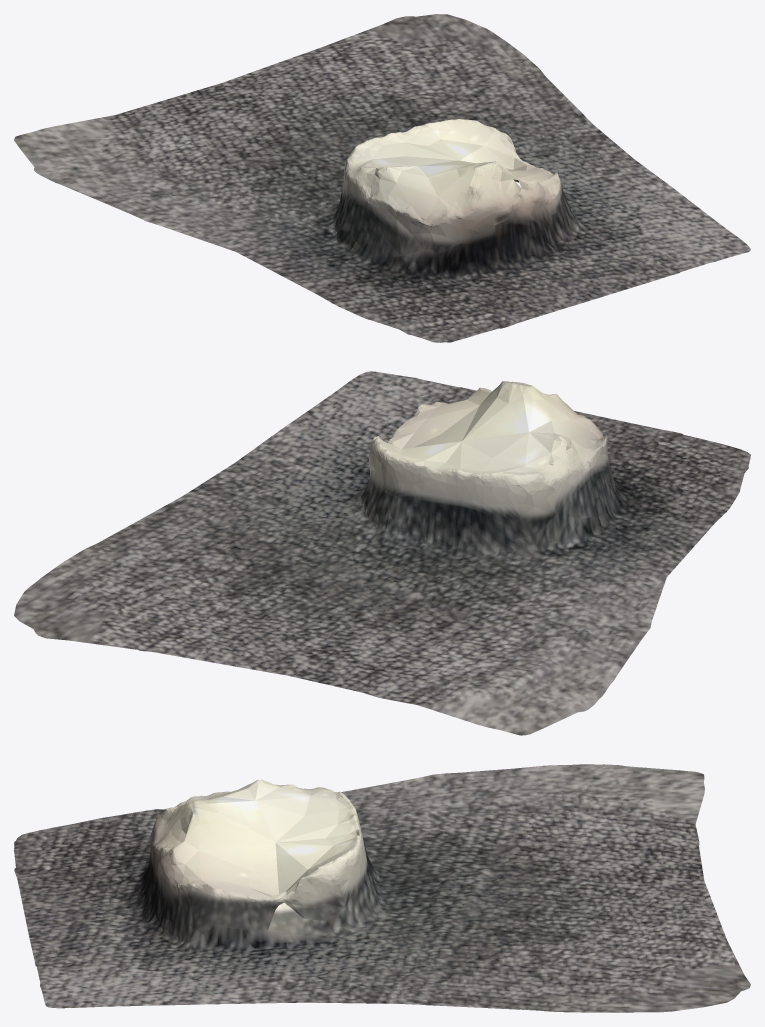
File: scene-mt2onnam.glb
The picture shows the model from 3 angles, top to bottom: view 1: azimuth 30°, elevation 25°; view 2: azimuth 150°, elevation 25°; view 3: azimuth 270°, elevation 25°; orthographic projection. The views are drawn at different scales.
Parts seen in each view (by area): view 1: mesh; view 2: mesh; view 3: mesh.
Part boxes in pixels (<box>): mesh: <box>14,14,750,342</box>; mesh: <box>14,371,750,735</box>; mesh: <box>14,764,750,1012</box>.
Bounding box in the file's own units: 0.1611 × 0.0291 × 0.1961.
1 material, 1 textured.
